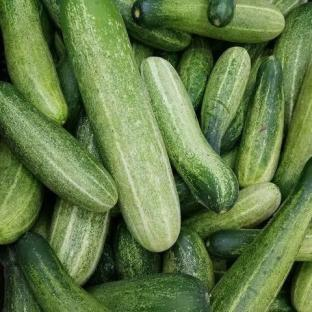Cucumber: (212, 158, 311, 311), (0, 83, 117, 211), (142, 57, 238, 213), (0, 0, 67, 123), (17, 234, 109, 311), (132, 0, 284, 42), (236, 56, 284, 187), (183, 183, 280, 238), (201, 47, 250, 154), (49, 199, 109, 284), (274, 64, 311, 198), (222, 45, 268, 152), (274, 3, 311, 132), (88, 274, 209, 311), (0, 140, 42, 244), (163, 228, 214, 291), (0, 246, 41, 311), (114, 223, 161, 279), (177, 36, 213, 109), (57, 54, 81, 133), (207, 229, 261, 258), (175, 175, 205, 219), (87, 241, 115, 284), (77, 110, 100, 159), (292, 262, 311, 311), (32, 199, 53, 239), (132, 40, 154, 68), (272, 0, 308, 15), (269, 291, 295, 311), (211, 257, 227, 284), (222, 146, 239, 170), (155, 51, 178, 68), (54, 31, 66, 60)
